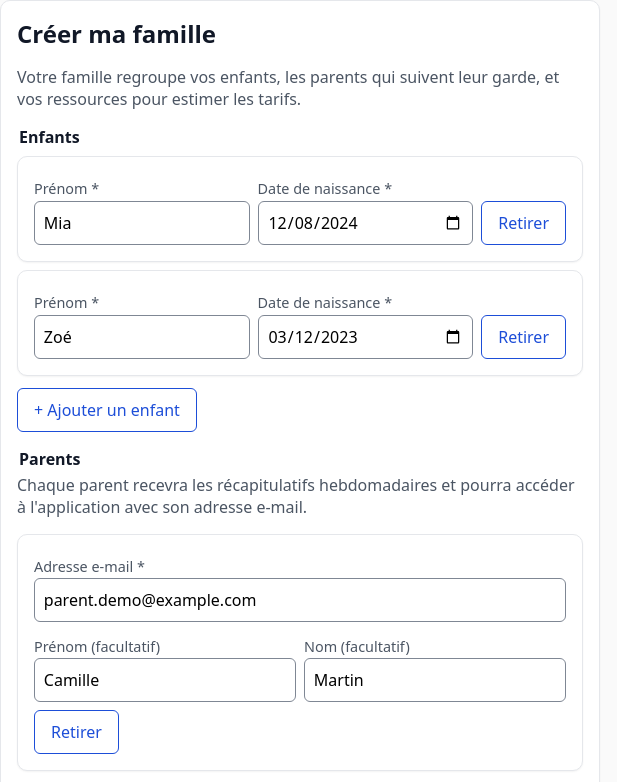
Test: FoyerFormPage › permet de retirer un enfant
Click the button with aria-label "Retirer l'enfant" at {"x": 524, "y": 223}, box x1=481 y1=201 x2=566 y2=245
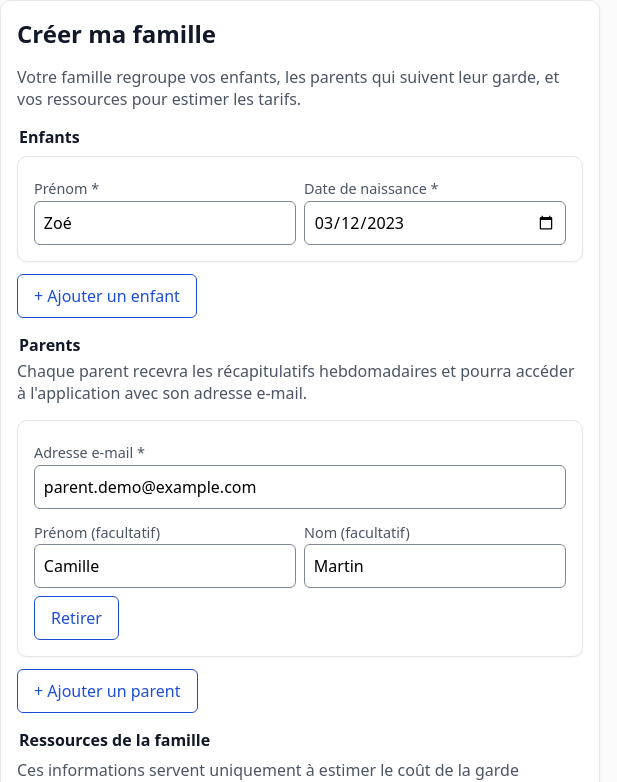
Expected: the number of fields labelled "Prénom *" is 2, x1=34 y1=201 x2=296 y2=245; x1=34 y1=544 x2=296 y2=588
